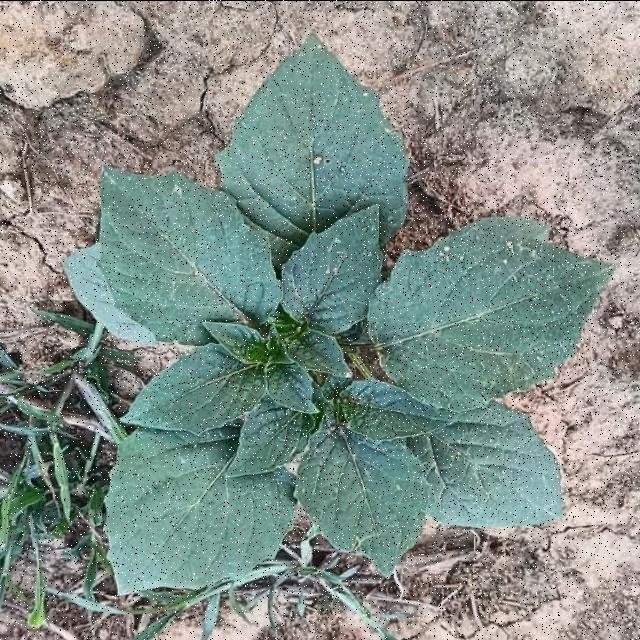weed: (64, 35, 611, 592)
